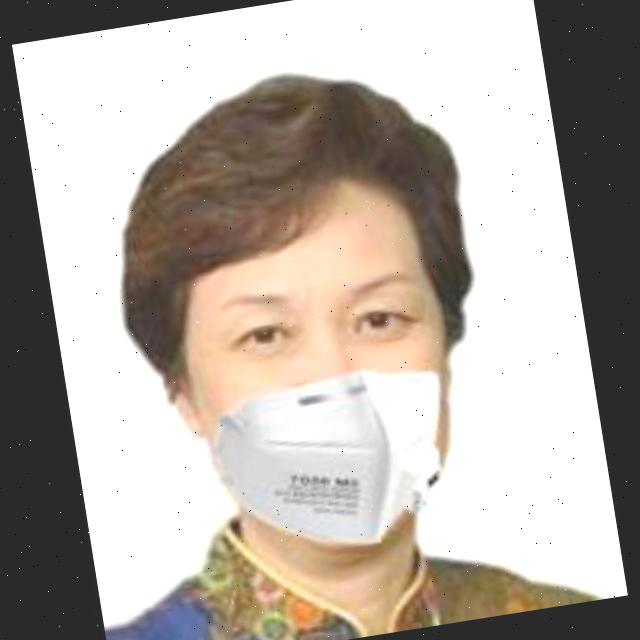suspicion: (124, 94, 504, 586)
